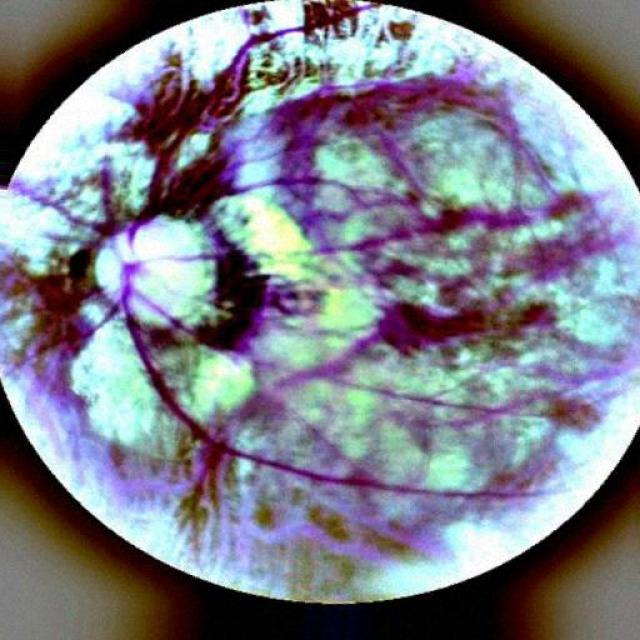Nerves: (120, 273, 560, 502)
Optic Disk: (90, 214, 235, 345)
